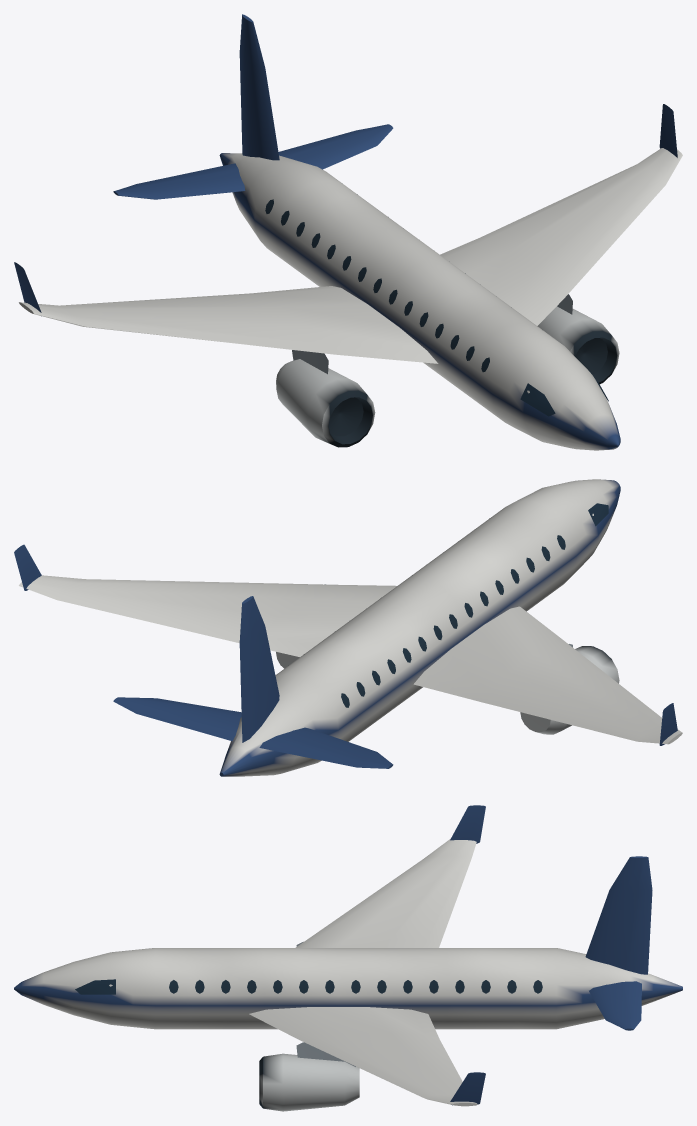
Rendered from jet.glb.
3 renders of one model, top to bottom at view 1: azimuth 30°, elevation 25°; view 2: azimuth 150°, elevation 25°; view 3: azimuth 270°, elevation 25°, orthographic. The views are drawn at different scales.
Visible parts, largest first — view 1: Jet • bimotor; view 2: Jet • bimotor; view 3: Jet • bimotor.
Part boxes in pixels (bbox=[...]): Jet • bimotor: bbox=[14, 14, 682, 450]; Jet • bimotor: bbox=[14, 479, 682, 776]; Jet • bimotor: bbox=[14, 805, 682, 1111].
Size of the model in its own units: 8.5 by 2.99 by 9.
